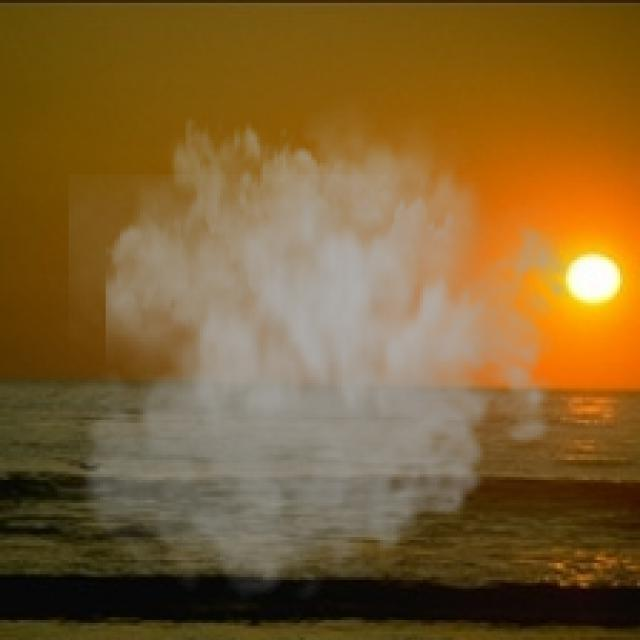Smoke: (69, 83, 586, 612)
